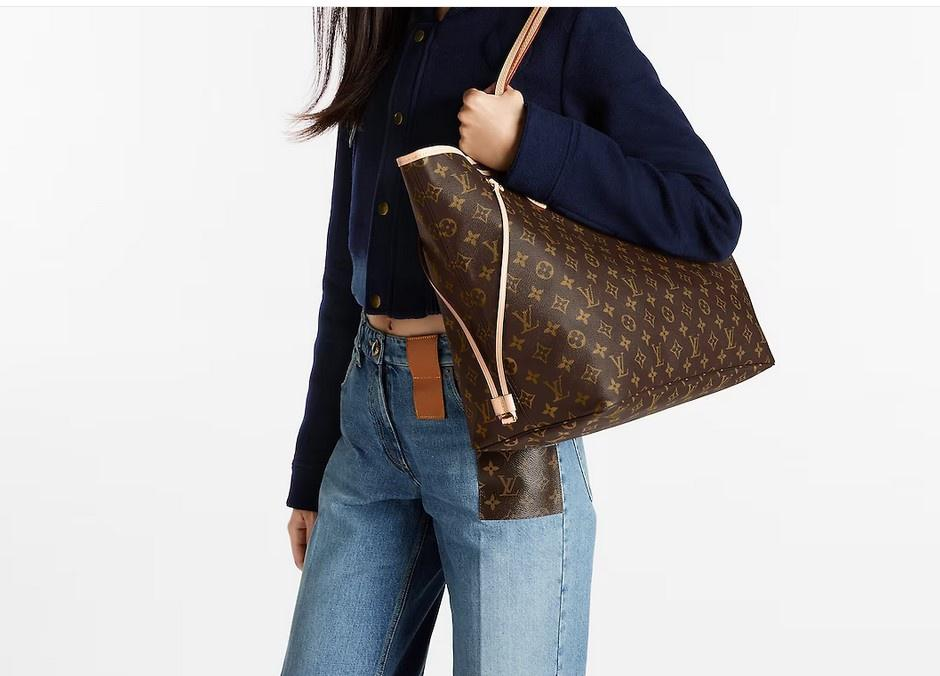LOUIS-VUITTON: (403, 153, 770, 435)
